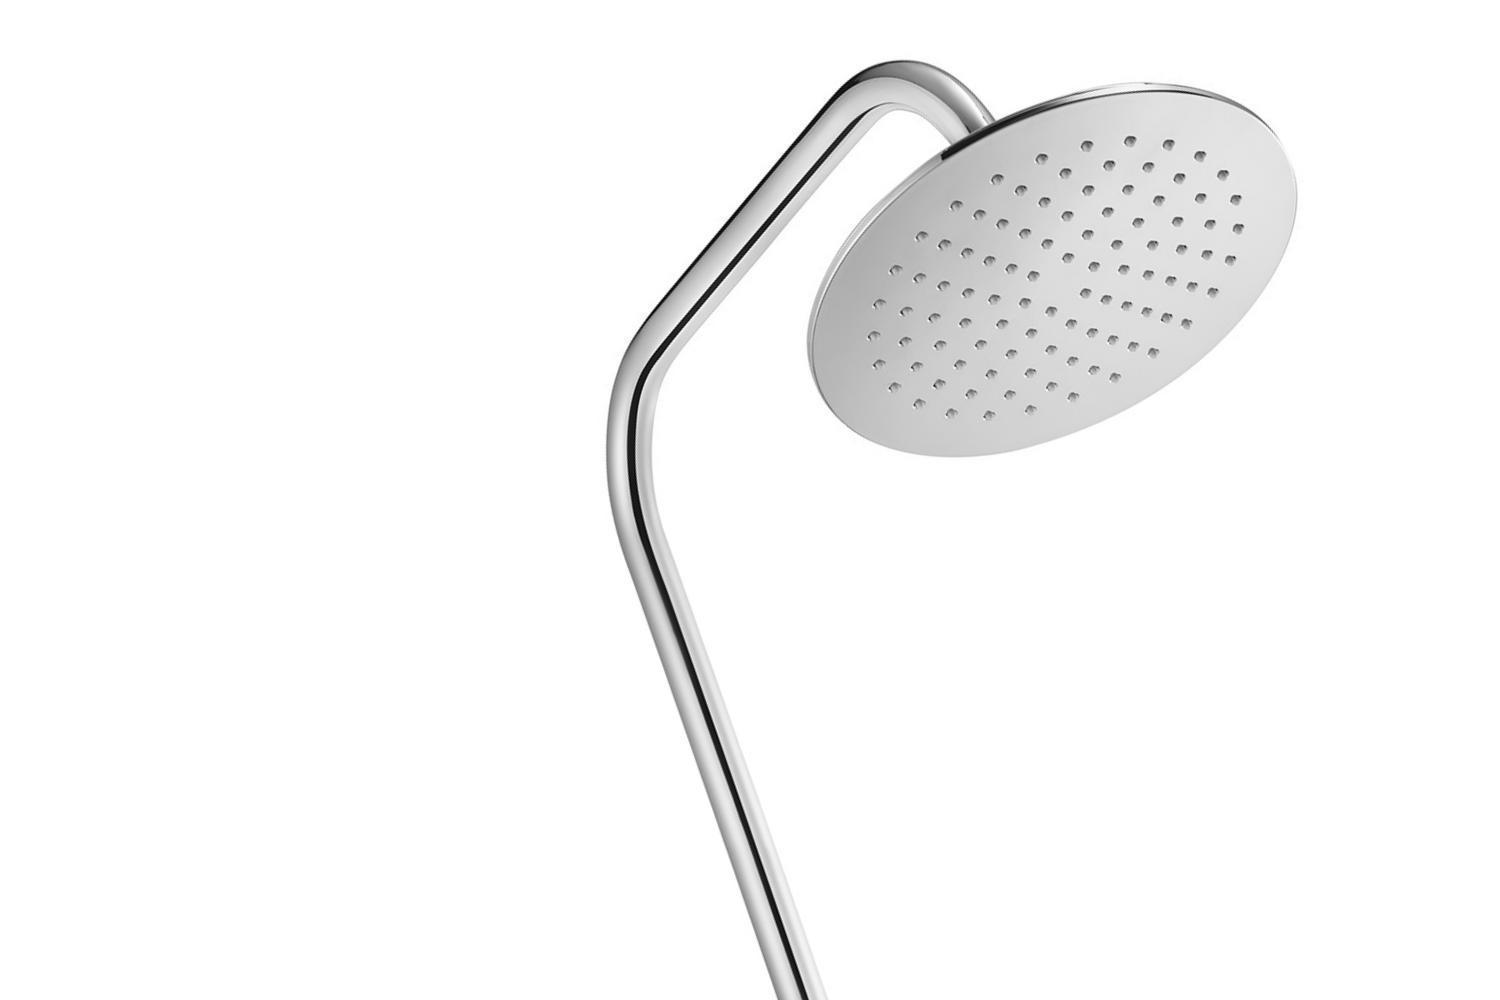Ducha: (504, 0, 1295, 999)
